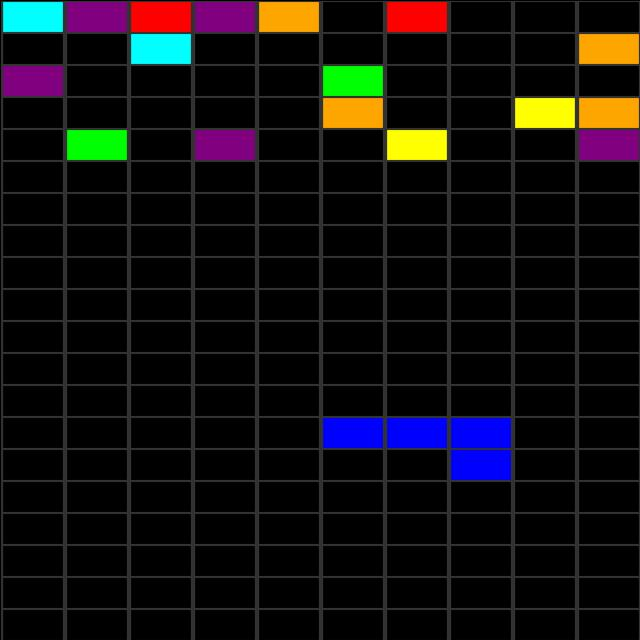Tetrimino_S: (320, 417, 512, 480)
